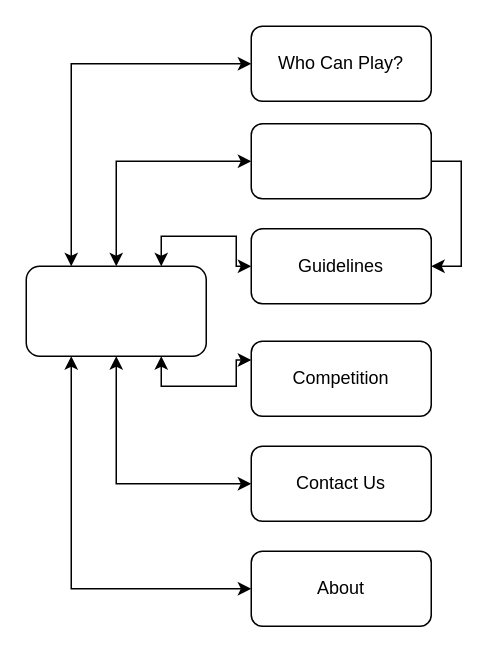
This 500x653 diagram has some shape labels left out. Each missing label, with the box of its shape:
Index / Home: (25, 265, 206, 356)
Sign Up: (250, 122, 431, 199)
